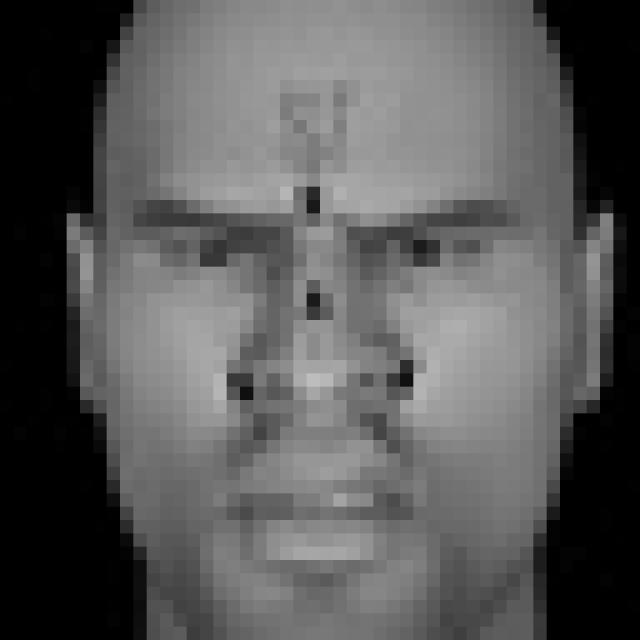disgust: (125, 193, 532, 594)
